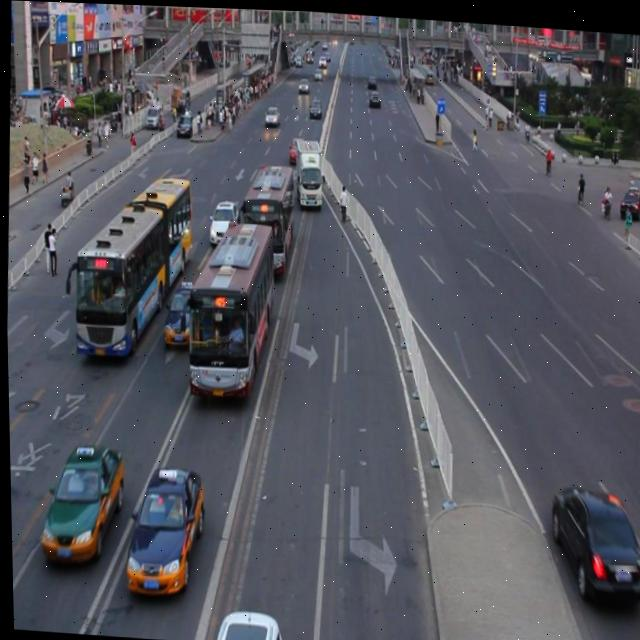bus: (292, 136, 322, 207)
car: (545, 476, 640, 595), (121, 461, 204, 594), (36, 441, 123, 565), (210, 607, 284, 640), (162, 280, 198, 344), (207, 197, 238, 242), (287, 134, 306, 161)
van: (60, 167, 192, 361), (180, 216, 276, 398), (237, 159, 294, 273)
